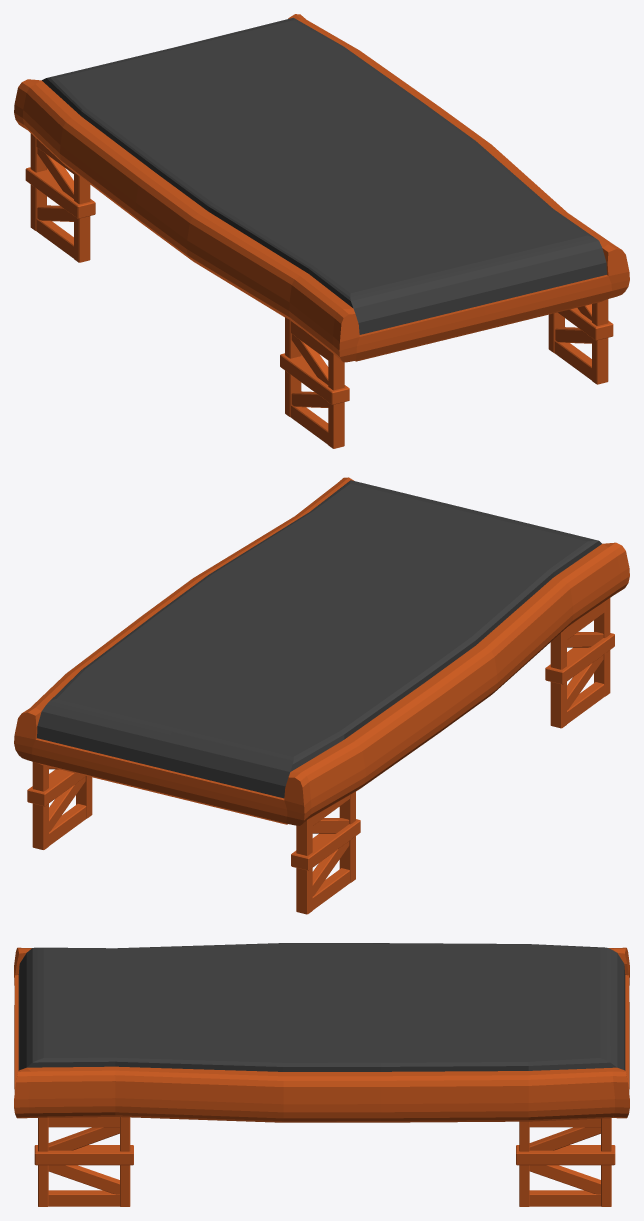
Rendered from MODEL_ENV_Conveyor_Med.fbx.
The picture shows the model from 3 angles, top to bottom: view 1: azimuth 30°, elevation 25°; view 2: azimuth 150°, elevation 25°; view 3: azimuth 270°, elevation 25°; orthographic projection. The views are drawn at different scales.
Parts seen in each view (by area): view 1: Conveyor_Med; view 2: Conveyor_Med; view 3: Conveyor_Med.
Boxes of the visible parts, left/top/right/bottom form: Conveyor_Med: left=14, top=14, right=629, bottom=448; Conveyor_Med: left=14, top=477, right=629, bottom=914; Conveyor_Med: left=14, top=943, right=629, bottom=1206.
Bounding box in the file's own units: 373 × 171 × 677.
